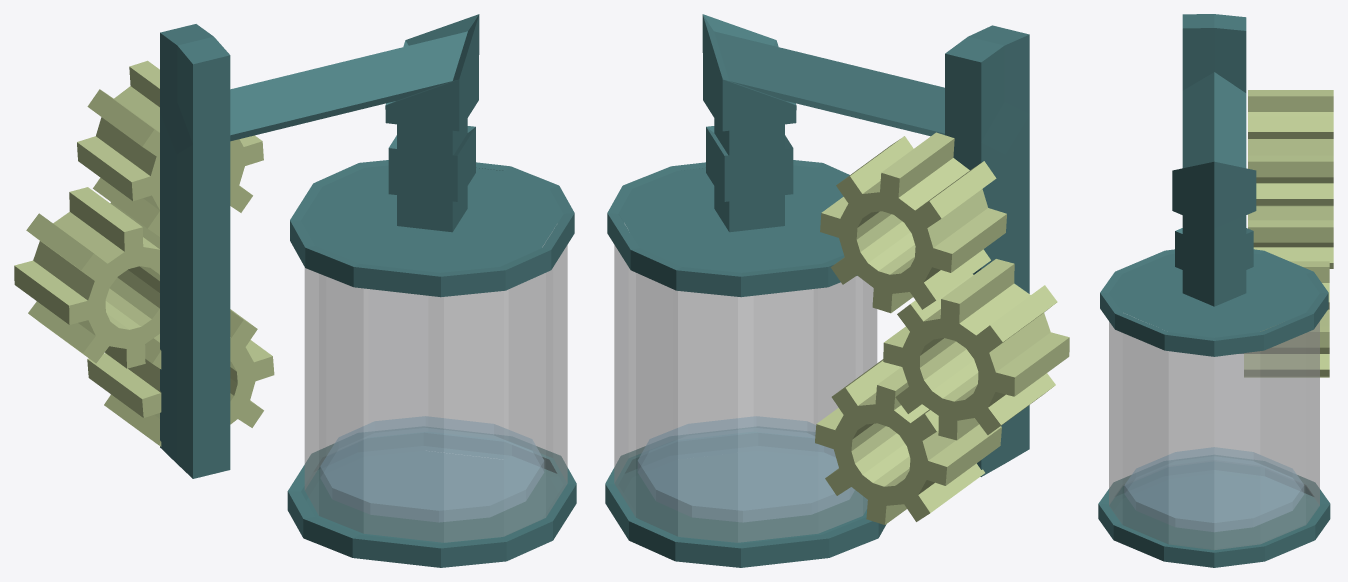
File: dispositivo.fbx
3 renders of one model, left to right at view 1: azimuth 30°, elevation 25°; view 2: azimuth 150°, elevation 25°; view 3: azimuth 270°, elevation 25°, orthographic. The views are drawn at different scales.
Visible parts, largest first — view 1: Ddispositivo, Vidro, Liquido, Engrenagem2, Engrenagem1, Engrenagem3; view 2: Ddispositivo, Vidro, Engrenagem1, Engrenagem2, Liquido, Engrenagem3; view 3: Ddispositivo, Vidro, Liquido, Engrenagem1, Engrenagem2, Engrenagem3.
Boxes of the visible parts, x1,y1,x2,y2 form: Ddispositivo: (160, 14, 576, 567); Vidro: (304, 245, 567, 542); Liquido: (320, 416, 543, 522); Engrenagem2: (14, 187, 159, 368); Engrenagem1: (77, 60, 263, 236); Engrenagem3: (87, 309, 274, 446); Ddispositivo: (605, 14, 1029, 567); Vidro: (614, 245, 877, 542); Engrenagem1: (820, 132, 1006, 313); Engrenagem2: (883, 259, 1069, 440); Liquido: (638, 416, 854, 522); Engrenagem3: (815, 359, 1001, 524); Ddispositivo: (1098, 14, 1330, 567); Vidro: (1109, 321, 1319, 549); Liquido: (1124, 447, 1303, 531); Engrenagem1: (1248, 90, 1333, 206); Engrenagem2: (1248, 206, 1333, 268); Engrenagem3: (1244, 261, 1329, 377).
Size of the model in its own units: 462 by 491 by 256.
